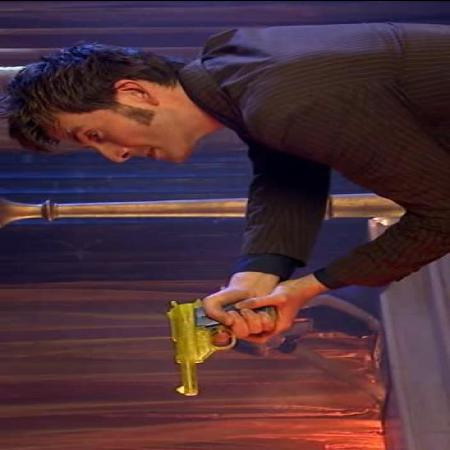Pistol: (163, 298, 278, 398)
